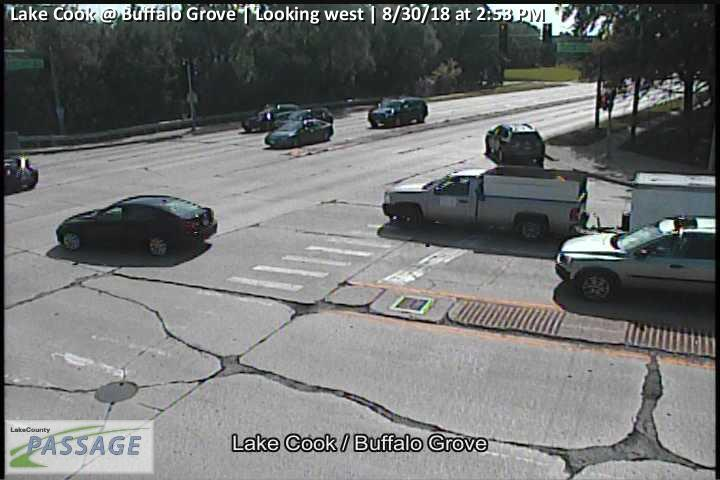SUV: (554, 216, 714, 305), (486, 122, 545, 168), (368, 95, 428, 127), (242, 102, 299, 133)
Sedan: (52, 194, 218, 256), (264, 116, 334, 149), (271, 107, 334, 129)
Truck: (382, 163, 716, 245)
